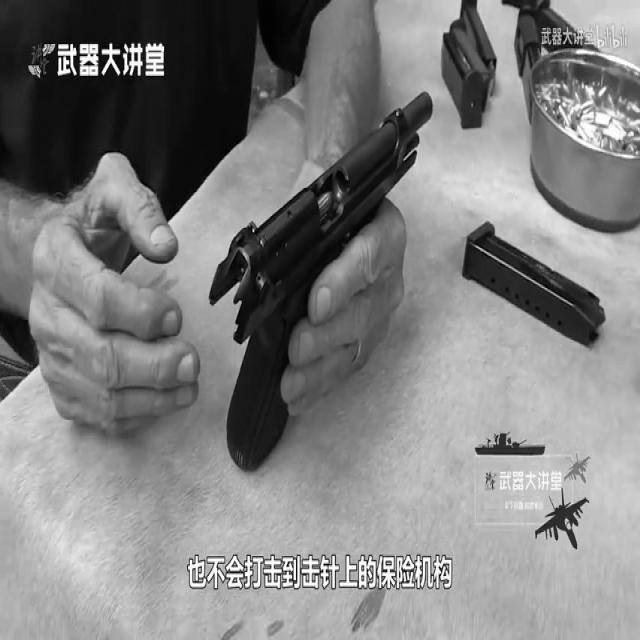Hand-Gun: (222, 78, 439, 464)
